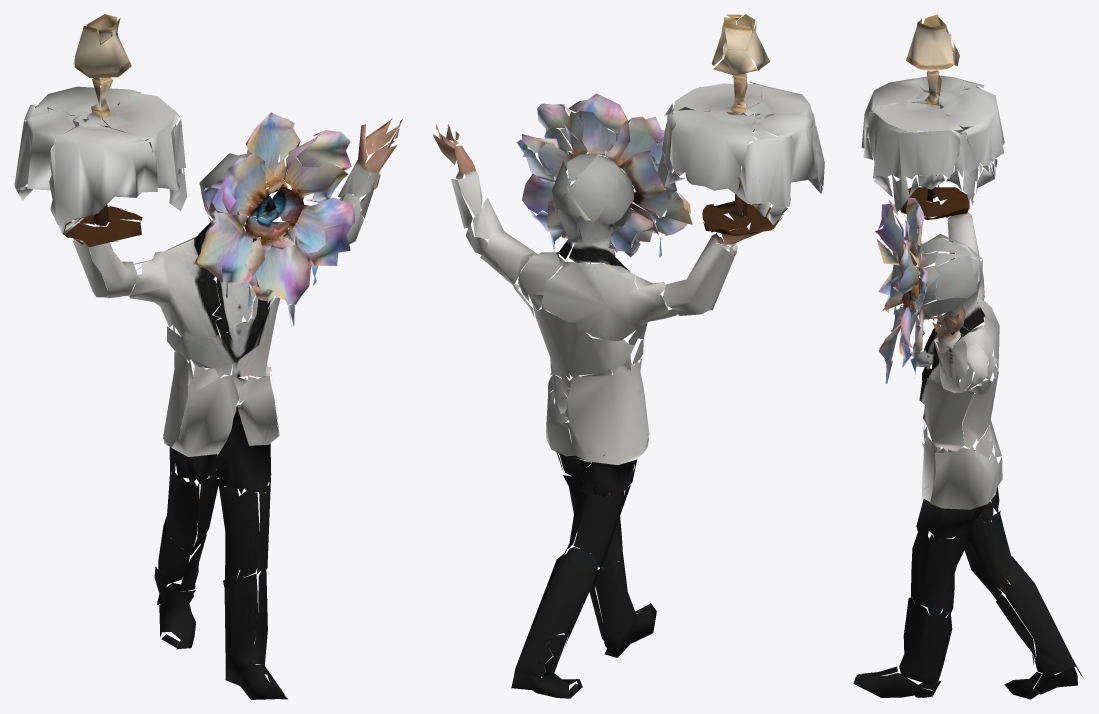
File: crowd_maitre.glb
The picture shows the model from 3 angles, left to right: view 1: azimuth 30°, elevation 25°; view 2: azimuth 150°, elevation 25°; view 3: azimuth 270°, elevation 25°; orthographic projection. The views are drawn at different scales.
Visible parts, largest first — view 1: tripo_node_05c4fbca-02c4-4de5-b7a4-4f7adf9fef5e; view 2: tripo_node_05c4fbca-02c4-4de5-b7a4-4f7adf9fef5e; view 3: tripo_node_05c4fbca-02c4-4de5-b7a4-4f7adf9fef5e.
Part boxes in pixels (x1,y1,x2,y2): tripo_node_05c4fbca-02c4-4de5-b7a4-4f7adf9fef5e: [14, 14, 402, 699]; tripo_node_05c4fbca-02c4-4de5-b7a4-4f7adf9fef5e: [433, 14, 824, 698]; tripo_node_05c4fbca-02c4-4de5-b7a4-4f7adf9fef5e: [853, 14, 1083, 699].
Bounding box in the file's own units: 1.09 × 1.88 × 0.6393.
1 material, 1 textured.
